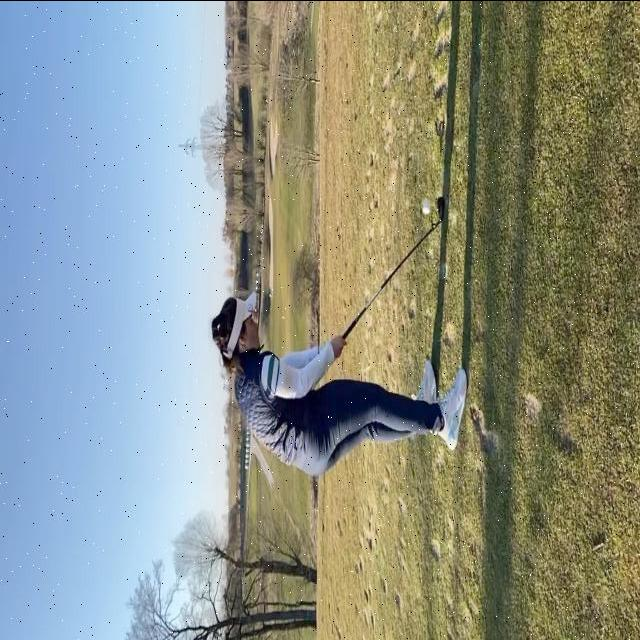golf ball: (423, 198, 430, 213)
golf club-handle: (342, 195, 445, 340)
golf club-head: (436, 195, 445, 220)
